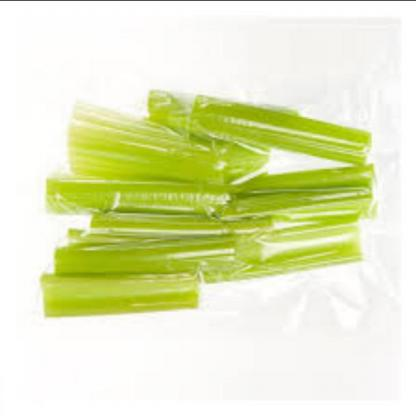celery: (30, 86, 391, 330)
